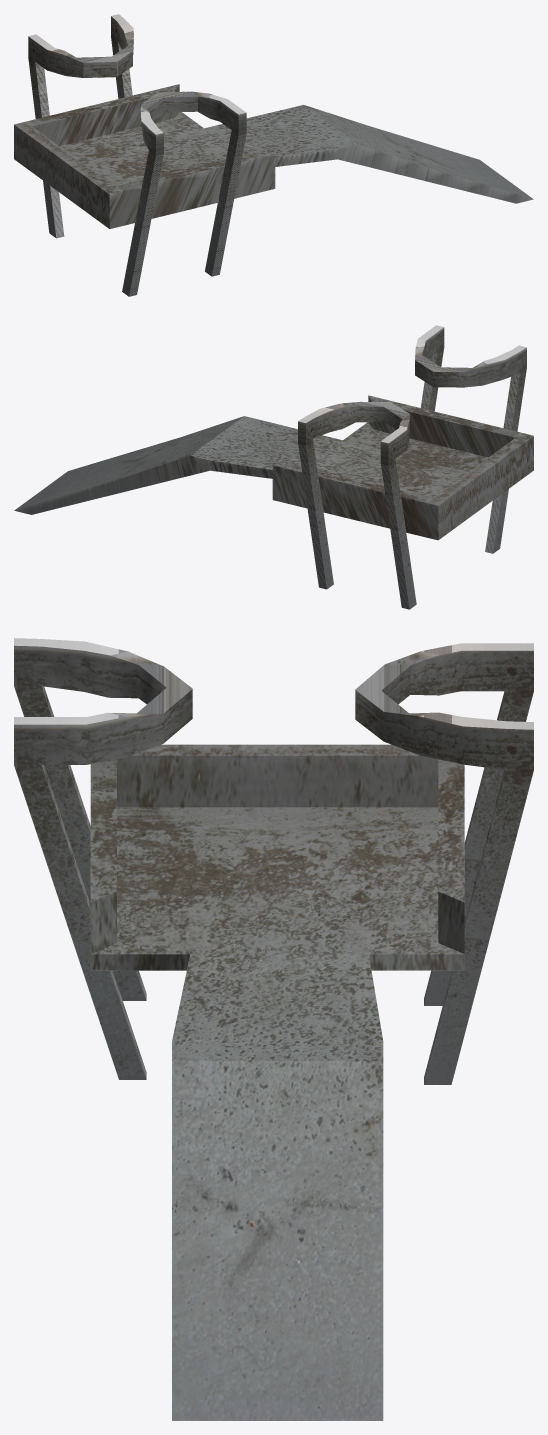
File: landingpad_export.fbx
The picture shows the model from 3 angles, top to bottom: view 1: azimuth 30°, elevation 25°; view 2: azimuth 150°, elevation 25°; view 3: azimuth 270°, elevation 25°; orthographic projection. The views are drawn at different scales.
Parts seen in each view (by area): view 1: pCube9, pCube5, pCube6; view 2: pCube9, pCube6, pCube5; view 3: pCube9, pCube5, pCube6.
Part boxes in pixels (x1,y1,x2,y2): pCube9: (14,84,533,228); pCube5: (122,91,246,296); pCube6: (28,14,133,238); pCube9: (14,395,533,540); pCube6: (298,401,416,609); pCube5: (415,325,526,553); pCube9: (90,744,464,1420); pCube5: (14,638,192,1079); pCube6: (355,643,533,1084).
Bounding box in the file's own units: 63.84 × 26.89 × 33.04.
